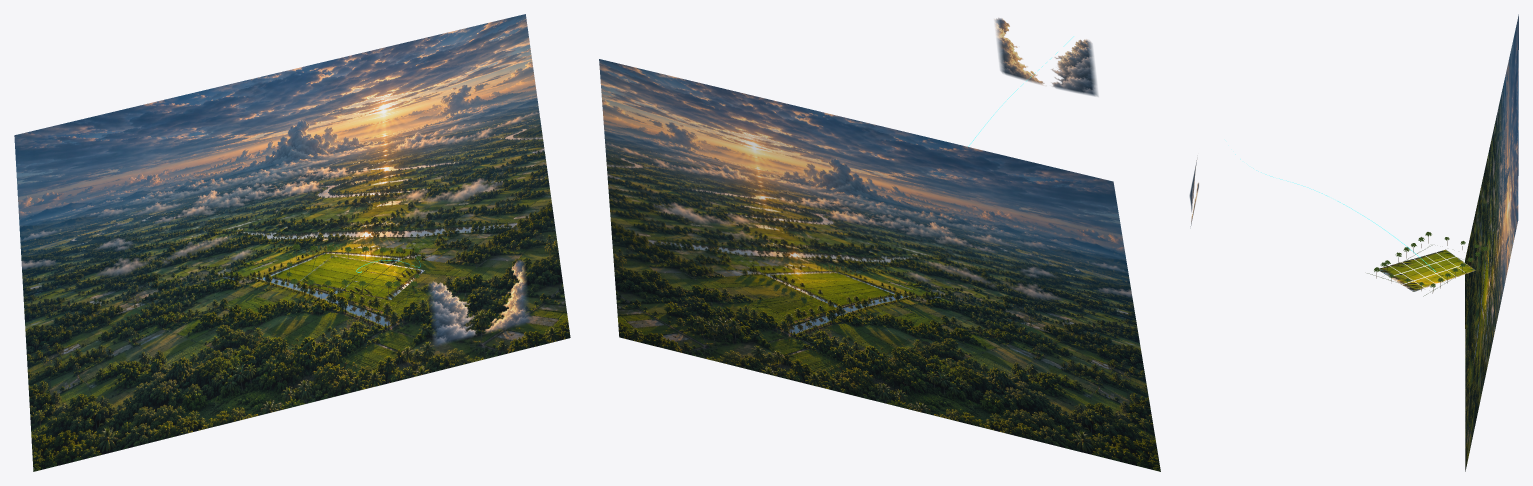
The model's file is field.glb.
The picture shows the model from 3 angles, left to right: view 1: azimuth 30°, elevation 25°; view 2: azimuth 150°, elevation 25°; view 3: azimuth 270°, elevation 25°; orthographic projection. The views are drawn at different scales.
Visible parts, largest first — view 1: Shared descent fixed registered outpaint, Left cloud proxy, Right cloud proxy; view 2: Shared descent fixed registered outpaint, Left cloud proxy, Right cloud proxy; view 3: Shared descent fixed registered outpaint.
Part boxes in pixels (x1=…): Shared descent fixed registered outpaint: x1=14, y1=14, x2=570, y2=471; Left cloud proxy: x1=428, y1=281, x2=476, y2=346; Right cloud proxy: x1=484, y1=260, x2=530, y2=333; Shared descent fixed registered outpaint: x1=599, y1=59, x2=1160, y2=471; Left cloud proxy: x1=1051, y1=39, x2=1097, y2=96; Right cloud proxy: x1=994, y1=18, x2=1044, y2=85; Shared descent fixed registered outpaint: x1=1465, y1=14, x2=1518, y2=471.
Bounding box in the file's own units: 608 × 334 × 397.
Materials: 14 (5 with a texture image).
